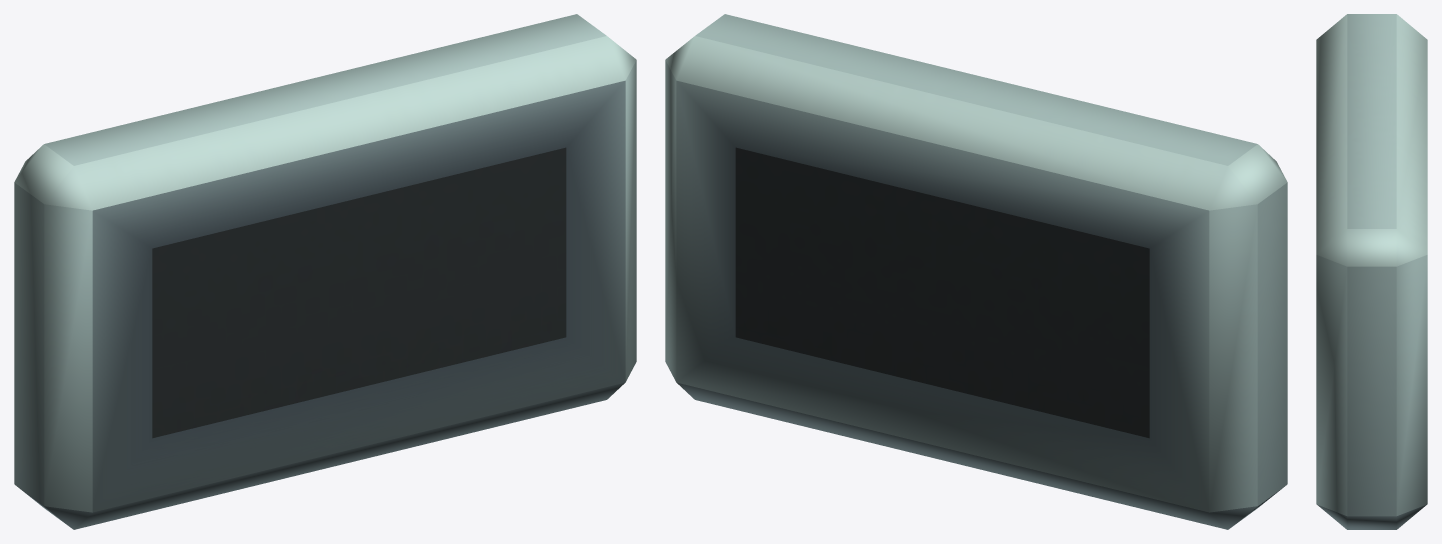
File: air_duct_joint.fbx
The picture shows the model from 3 angles, left to right: view 1: azimuth 30°, elevation 25°; view 2: azimuth 150°, elevation 25°; view 3: azimuth 270°, elevation 25°; orthographic projection. The views are drawn at different scales.
Visible parts, largest first — view 1: air_duct_joint; view 2: air_duct_joint; view 3: air_duct_joint.
Part boxes in pixels (<box>): air_duct_joint: <box>14,14,636,529</box>; air_duct_joint: <box>665,14,1287,529</box>; air_duct_joint: <box>1316,14,1427,529</box>.
Bounding box in the file's own units: 102 × 59.72 × 19.97.
